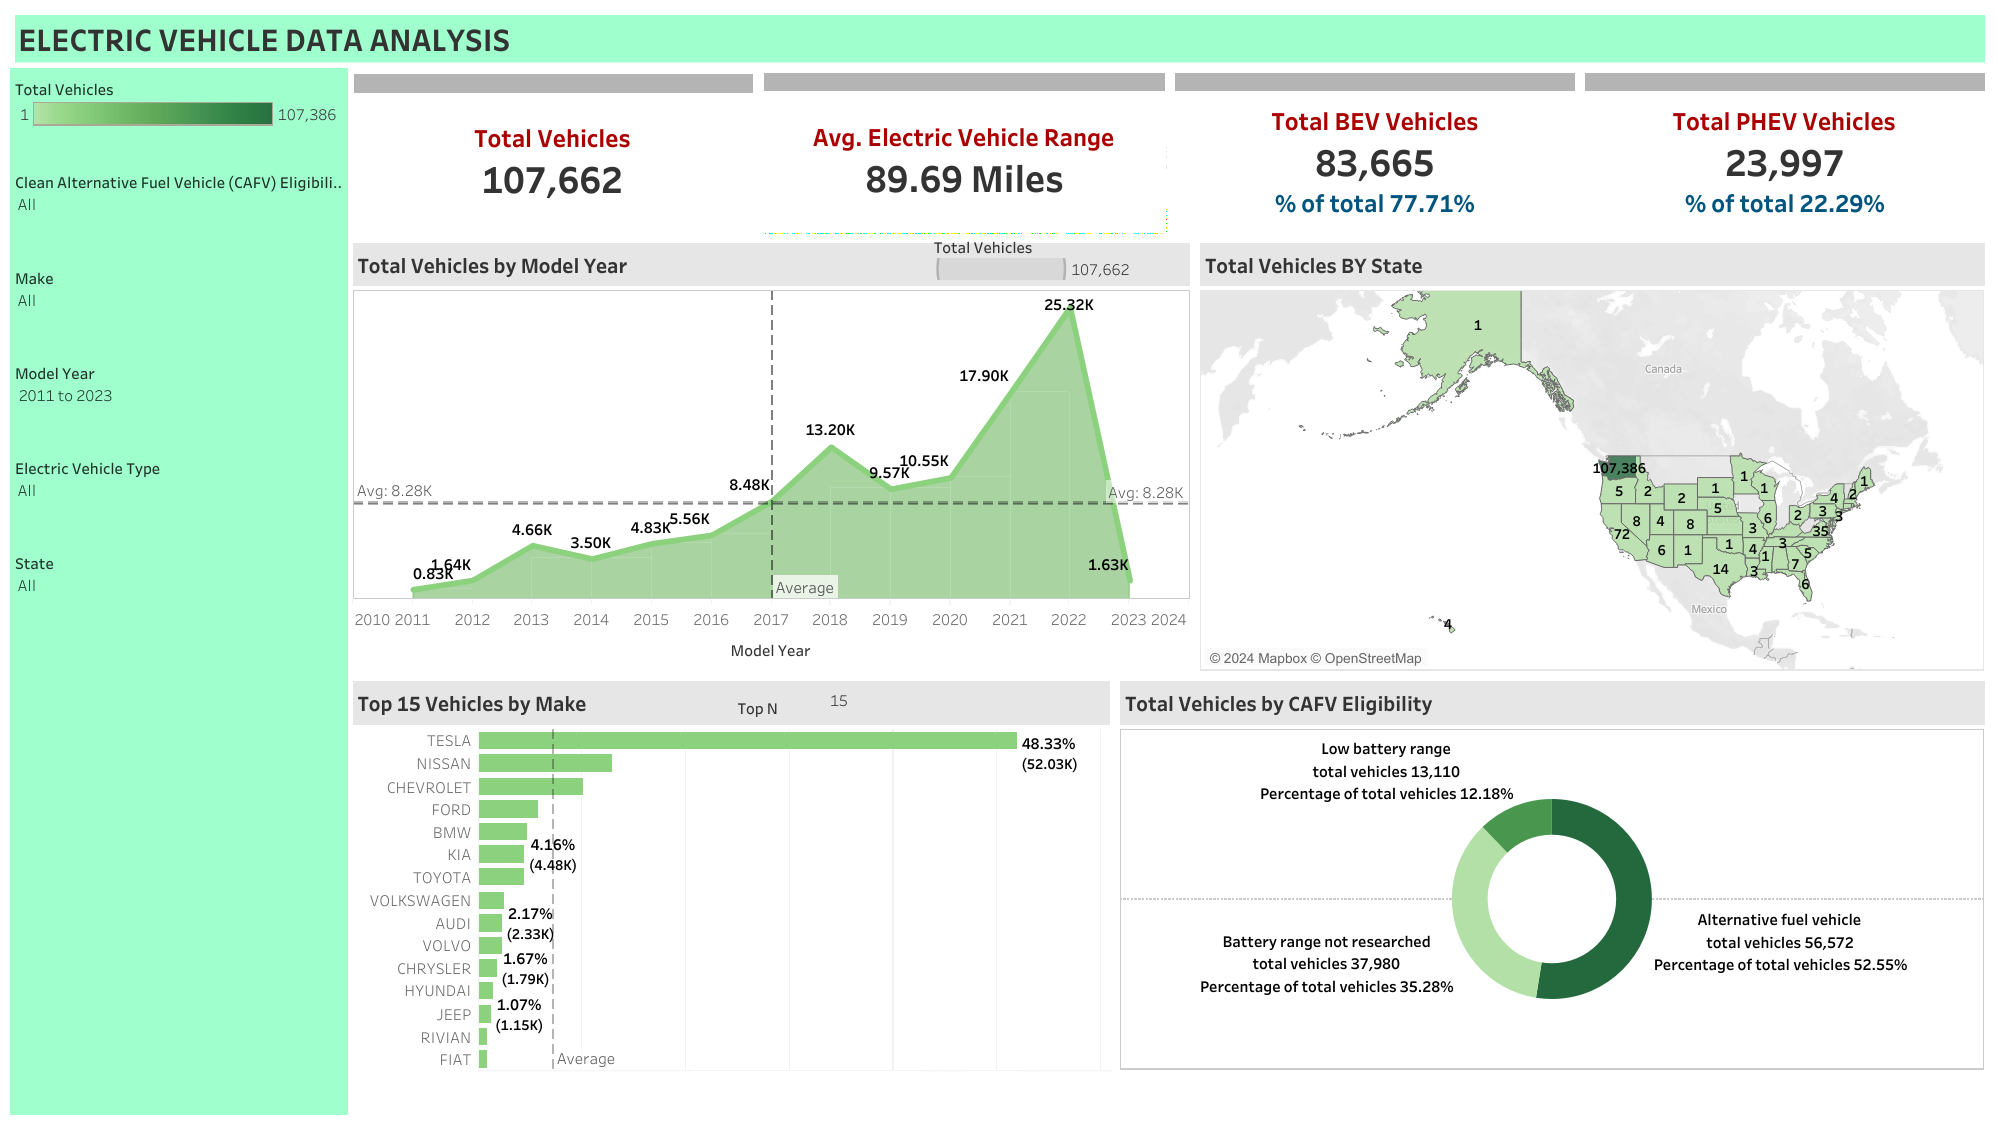

Layout of this report page (visuals, bound fields, positions):
{"tool":"tableau","page":{"name":"Dashboard 1","canvas":[1600,900],"ordinal":0},"visuals":[{"type":"title","box":[8,8,1584,46]},{"type":"legend","title":"Total Vehicles BY State","param":"[federated.0hit0n20c5g4071c8jkno1fke9qa].[usr:Calculation_837951065768185856:qk]","box":[8,54,270,77]},{"type":"worksheet","title":"Total Vehicles","mark":"Automatic","box":[278,54,329,136]},{"type":"worksheet","title":"Avg Electric Range","mark":"Automatic","box":[607,54,329,136]},{"type":"worksheet","title":"Total BEV Vehicles","mark":"Automatic","box":[936,54,328,136]},{"type":"worksheet","title":"Total PHEV Vehicles (2)","mark":"Automatic","box":[1264,54,328,136]},{"type":"filter","title":"Total Vehicles by CAFV Eligibility","param":"[federated.0hit0n20c5g4071c8jkno1fke9qa].[none:Clean Alternative Fuel Vehicle (C","box":[8,131,270,77]},{"type":"legend","title":"Total Vehicles by CAFV Eligibility","param":"[federated.0hit0n20c5g4071c8jkno1fke9qa].[usr:Calculation_837951065768185856:qk]","box":[746,186,198,46]},{"type":"worksheet","title":"Total Vehicles by Model Year","mark":"Area","rows":["Calculation_837951065768185856","Calculation_837951065768185856"],"cols":["Model Year"],"box":[278,189.6,678,351.2]},{"type":"worksheet","title":"Total Vehicles BY State","mark":"Multipolygon","box":[956,189.6,636,351.2]},{"type":"filter","title":"Top 10 Vehicles by Make","param":"[federated.0hit0n20c5g4071c8jkno1fke9qa].[none:Make:nk]","box":[8,208,270,76]},{"type":"filter","title":"Total Vehicles by Model Year","param":"[federated.0hit0n20c5g4071c8jkno1fke9qa].[none:Model Year:qk]","box":[8,284,270,76]},{"type":"filter","title":"Total Vehicles by Model Year","param":"[federated.0hit0n20c5g4071c8jkno1fke9qa].[none:Electric Vehicle Type:nk]","box":[8,360,270,76]},{"type":"filter","title":"Total Vehicles BY State","param":"[federated.0hit0n20c5g4071c8jkno1fke9qa].[none:State:nk]","box":[8,436,270,76]},{"type":"blank","box":[8,512,270,76]},{"type":"worksheet","title":"Top 10 Vehicles by Make","mark":"Bar","rows":["Make"],"cols":["Calculation_837951065768185856"],"box":[278,540.8,614,319.2]},{"type":"worksheet","title":"Total Vehicles by CAFV Eligibility","mark":"Pie","rows":["Calculation_837951066266963975","Calculation_837951066266963975"],"box":[892,540.8,700,319.2]},{"type":"parameter","param":"[Parameters].[Parameter 1]","box":[590,551,160,29]},{"type":"blank","box":[8,588,270,76]},{"type":"blank","box":[8,664,270,76]},{"type":"blank","box":[8,740,270,76]},{"type":"blank","box":[8,816,270,76]},{"type":"blank","box":[278,860,1314,32]}]}

Visuals, with their boxes in screenshot pixels (x1, y1, x2, y2), scaled from the page's 1600x900 canvas onto the 1999x1124 screenshot:
title: [10,10,1989,67]
"Total Vehicles BY State" legend: [10,67,347,164]
"Total Vehicles" worksheet: [347,67,758,237]
"Avg Electric Range" worksheet: [758,67,1169,237]
"Total BEV Vehicles" worksheet: [1169,67,1579,237]
"Total PHEV Vehicles (2)" worksheet: [1579,67,1989,237]
"Total Vehicles by CAFV Eligibility" filter: [10,164,347,260]
"Total Vehicles by CAFV Eligibility" legend: [932,232,1179,290]
"Total Vehicles by Model Year" worksheet (Area marks): [347,237,1194,675]
"Total Vehicles BY State" worksheet (Multipolygon marks): [1194,237,1989,675]
"Top 10 Vehicles by Make" filter: [10,260,347,355]
"Total Vehicles by Model Year" filter: [10,355,347,450]
"Total Vehicles by Model Year" filter: [10,450,347,545]
"Total Vehicles BY State" filter: [10,545,347,639]
blank: [10,639,347,734]
"Top 10 Vehicles by Make" worksheet (Bar marks): [347,675,1114,1074]
"Total Vehicles by CAFV Eligibility" worksheet (Pie marks): [1114,675,1989,1074]
parameter: [737,688,937,724]
blank: [10,734,347,829]
blank: [10,829,347,924]
blank: [10,924,347,1019]
blank: [10,1019,347,1114]
blank: [347,1074,1989,1114]
